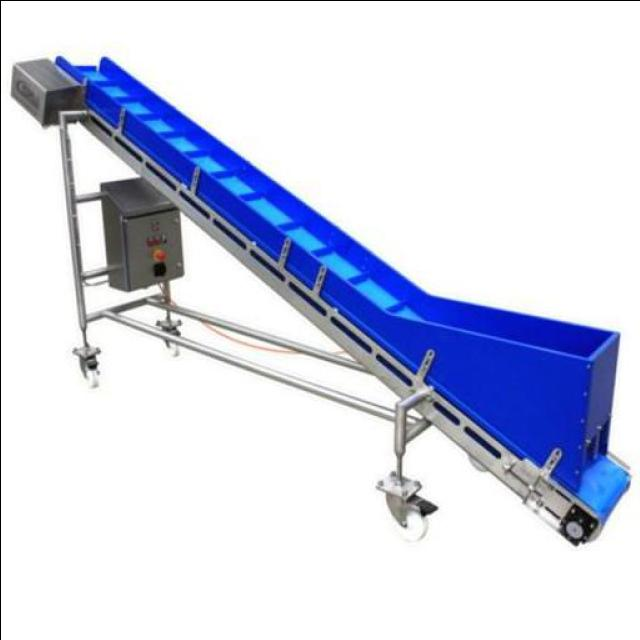conveyor: (63, 61, 430, 323)
